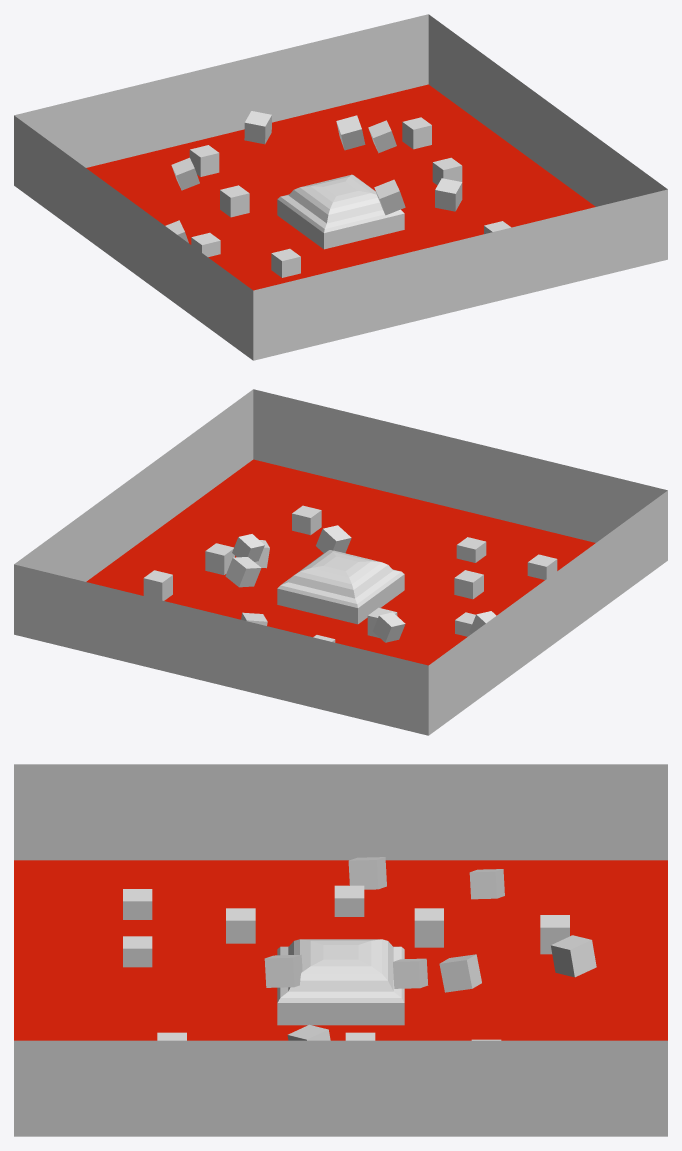
The model's file is areanaofthefunxzies.glb.
3 views of the same model, one above another, from view 1: azimuth 30°, elevation 25°; view 2: azimuth 150°, elevation 25°; view 3: azimuth 270°, elevation 25° (orthographic). The views are drawn at different scales.
Parts seen in each view (by area): view 1: Cube, Cube.001, Cube.010, Cube.008, Cube.011, Cube.012, Cube.009, Cube.013, Cube.005, Cube.015, Cube.007, Cube.018 (+2 smaller); view 2: Cube, Cube.001, Cube.013, Cube.010, Cube.007, Cube.006, Cube.015, Cube.005, Cube.017, Cube.003, Cube.018, Cube.002; view 3: Cube, Cube.001, Cube.012, Cube.013, Cube.008, Cube.015, Cube.016, Cube.005, Cube.018, Cube.017, Cube.004, Cube.003 (+2 smaller).
Boxes of the visible parts, x1=… form: Cube: x1=14, y1=14, x2=667, y2=360; Cube.001: x1=277, y1=174, x2=404, y2=249; Cube.010: x1=402, y1=117, x2=431, y2=149; Cube.008: x1=220, y1=185, x2=249, y2=217; Cube.011: x1=435, y1=178, x2=462, y2=211; Cube.012: x1=244, y1=111, x2=271, y2=144; Cube.009: x1=189, y1=145, x2=219, y2=176; Cube.013: x1=336, y1=115, x2=365, y2=150; Cube.005: x1=271, y1=248, x2=300, y2=277; Cube.015: x1=374, y1=179, x2=405, y2=215; Cube.007: x1=432, y1=157, x2=462, y2=185; Cube.018: x1=368, y1=120, x2=396, y2=153; Cube: x1=14, y1=389, x2=667, y2=735; Cube.001: x1=277, y1=550, x2=404, y2=624; Cube.013: x1=225, y1=557, x2=261, y2=587; Cube.010: x1=143, y1=570, x2=172, y2=600; Cube.007: x1=205, y1=543, x2=234, y2=574; Cube.006: x1=292, y1=505, x2=321, y2=535; Cube.015: x1=316, y1=525, x2=351, y2=553; Cube.005: x1=454, y1=570, x2=483, y2=599; Cube.017: x1=372, y1=612, x2=405, y2=642; Cube.003: x1=456, y1=537, x2=486, y2=562; Cube.018: x1=232, y1=534, x2=264, y2=561; Cube.002: x1=527, y1=554, x2=557, y2=579; Cube: x1=14, y1=764, x2=667, y2=1136; Cube.001: x1=277, y1=939, x2=404, y2=1025; Cube.012: x1=551, y1=935, x2=596, y2=977; Cube.013: x1=439, y1=954, x2=481, y2=992; Cube.008: x1=414, y1=908, x2=443, y2=947; Cube.015: x1=264, y1=954, x2=302, y2=987; Cube.016: x1=348, y1=857, x2=386, y2=889; Cube.005: x1=226, y1=908, x2=255, y2=943; Cube.018: x1=393, y1=958, x2=428, y2=988; Cube.017: x1=469, y1=869, x2=504, y2=899; Cube.004: x1=334, y1=885, x2=364, y2=916; Cube.003: x1=123, y1=936, x2=152, y2=967.
Bounding box in the file's own units: 54.51 × 12.79 × 54.51.
